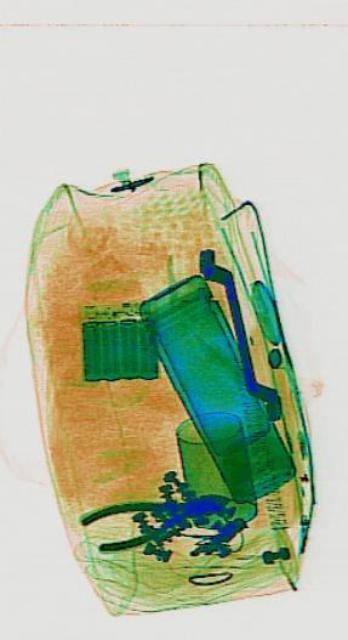Pliers: (77, 477, 229, 557)
